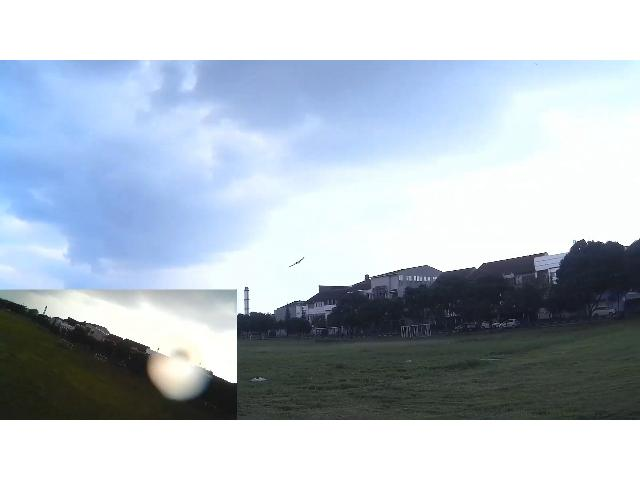Anti-Drone: (290, 257, 304, 267)
